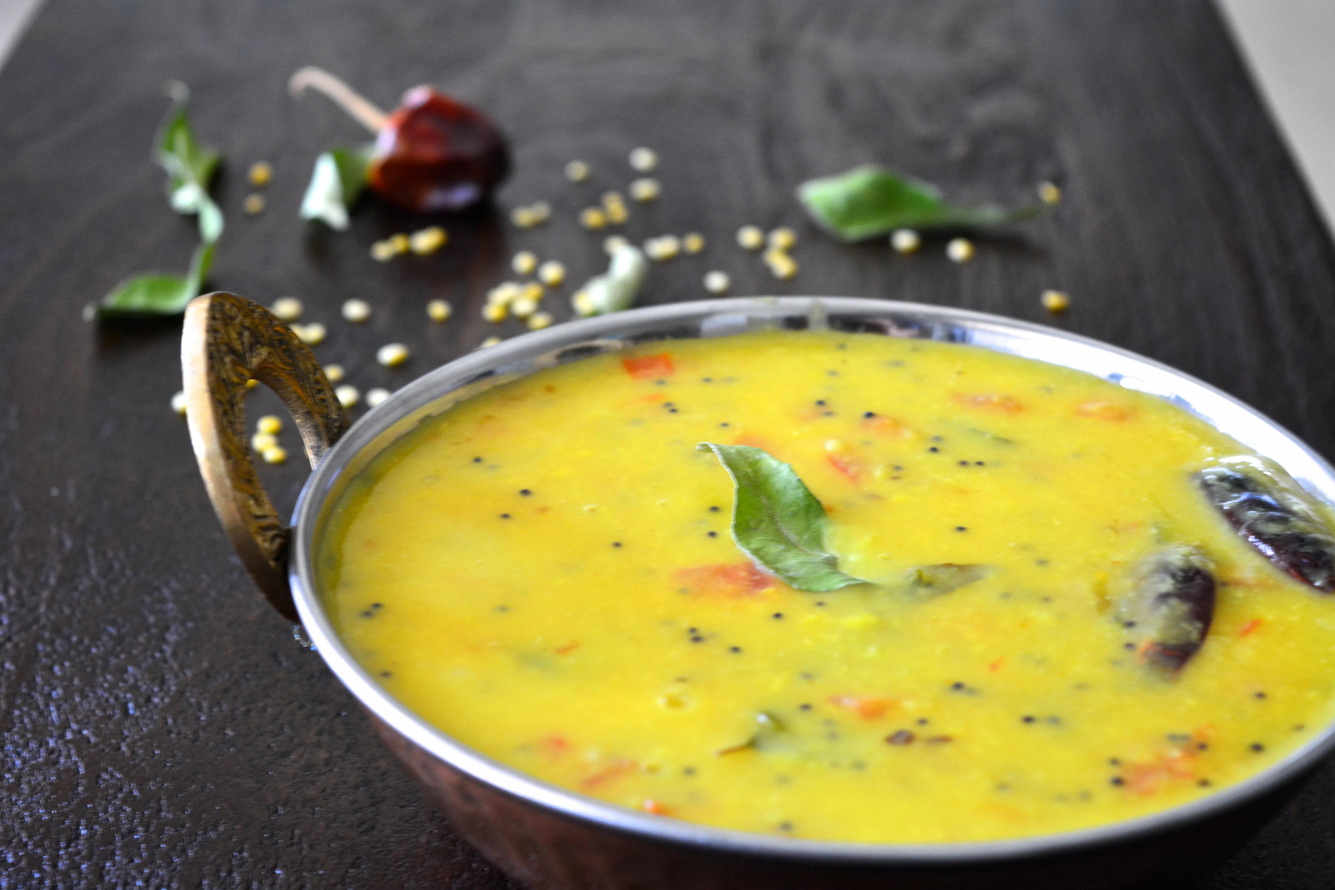Dal: (335, 332, 1335, 843)
